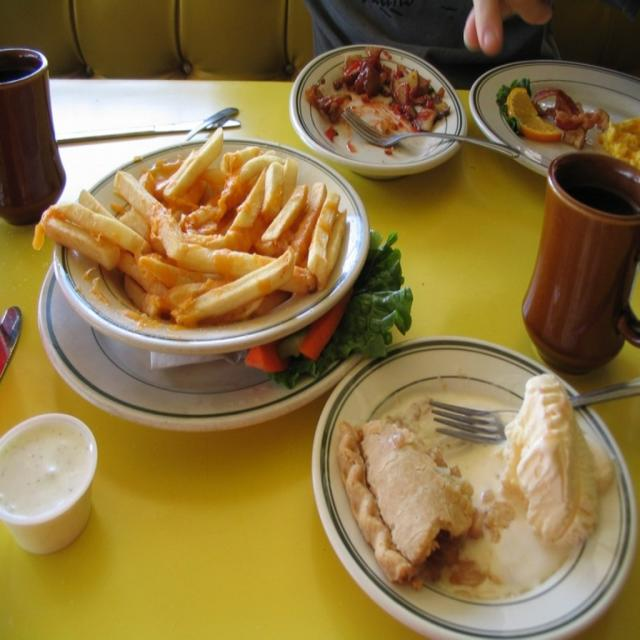Tea: (561, 184, 639, 212)
